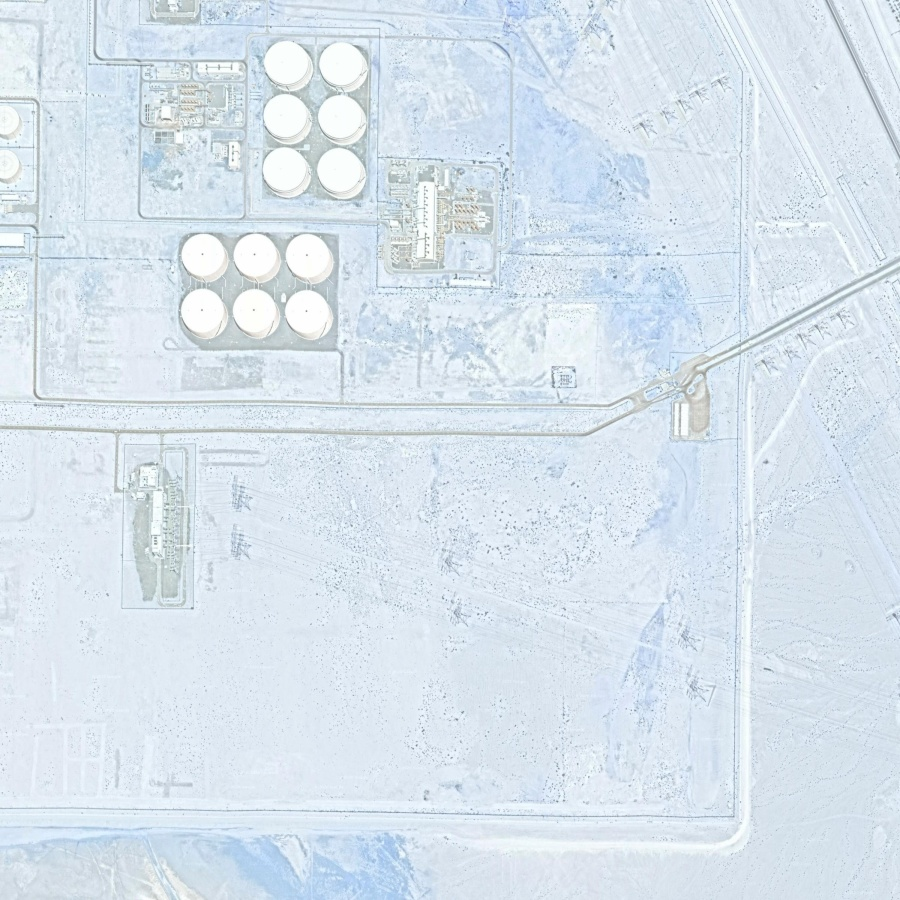PowerPlant: (118, 8, 498, 366)
